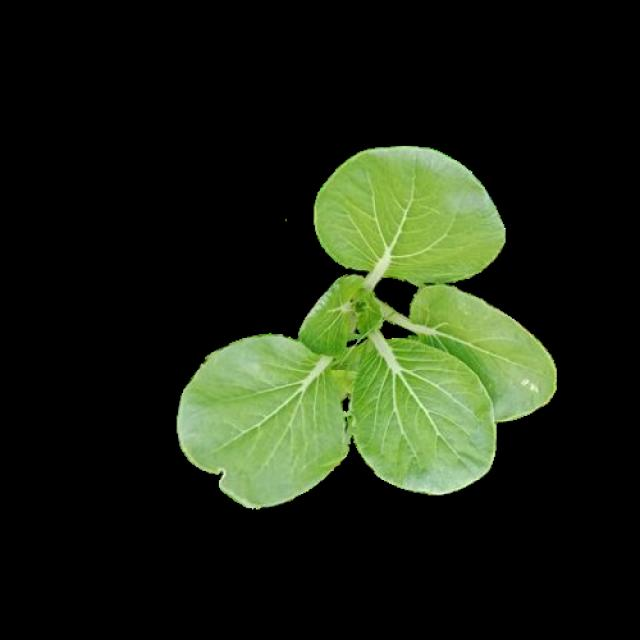healthy: (174, 144, 554, 501)
not-mature: (175, 146, 556, 503)
